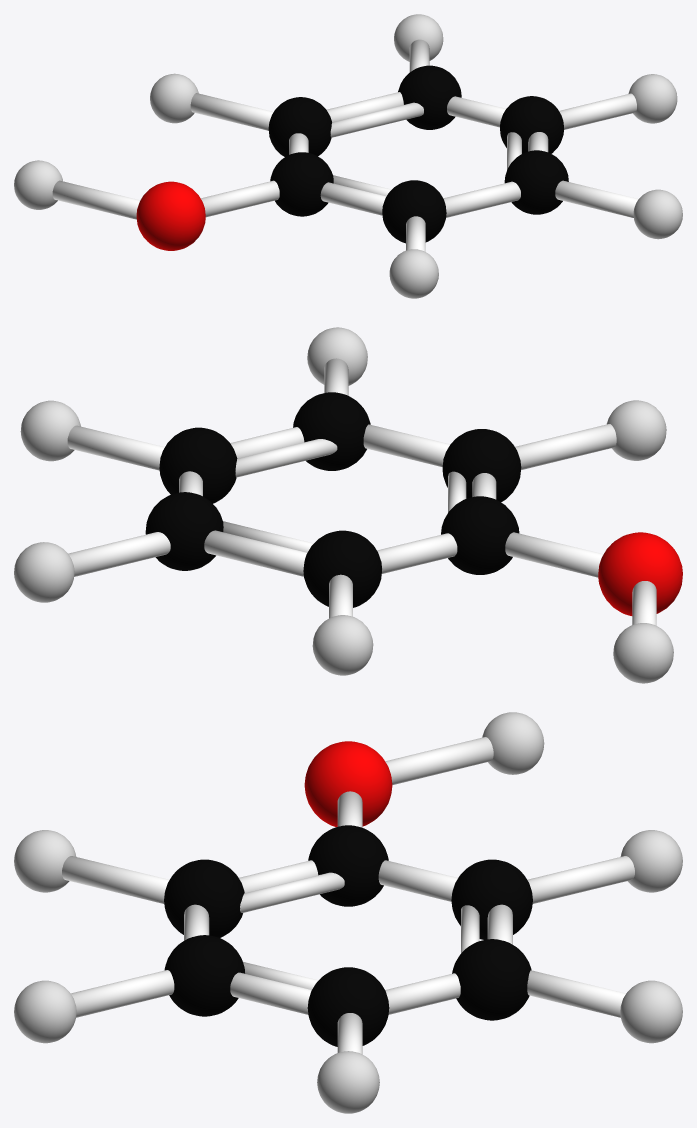
Rendered from phenol.fbx.
The picture shows the model from 3 angles, top to bottom: view 1: azimuth 30°, elevation 25°; view 2: azimuth 150°, elevation 25°; view 3: azimuth 270°, elevation 25°; orthographic projection. The views are drawn at different scales.
Visible parts, largest first — view 1: o; view 2: o; view 3: o.
Part boxes in pixels (<box>): o: <box>14,14,682,298</box>; o: <box>14,327,682,683</box>; o: <box>14,712,682,1113</box>.
Size of the model in its own units: 1378 by 140 by 1066.
